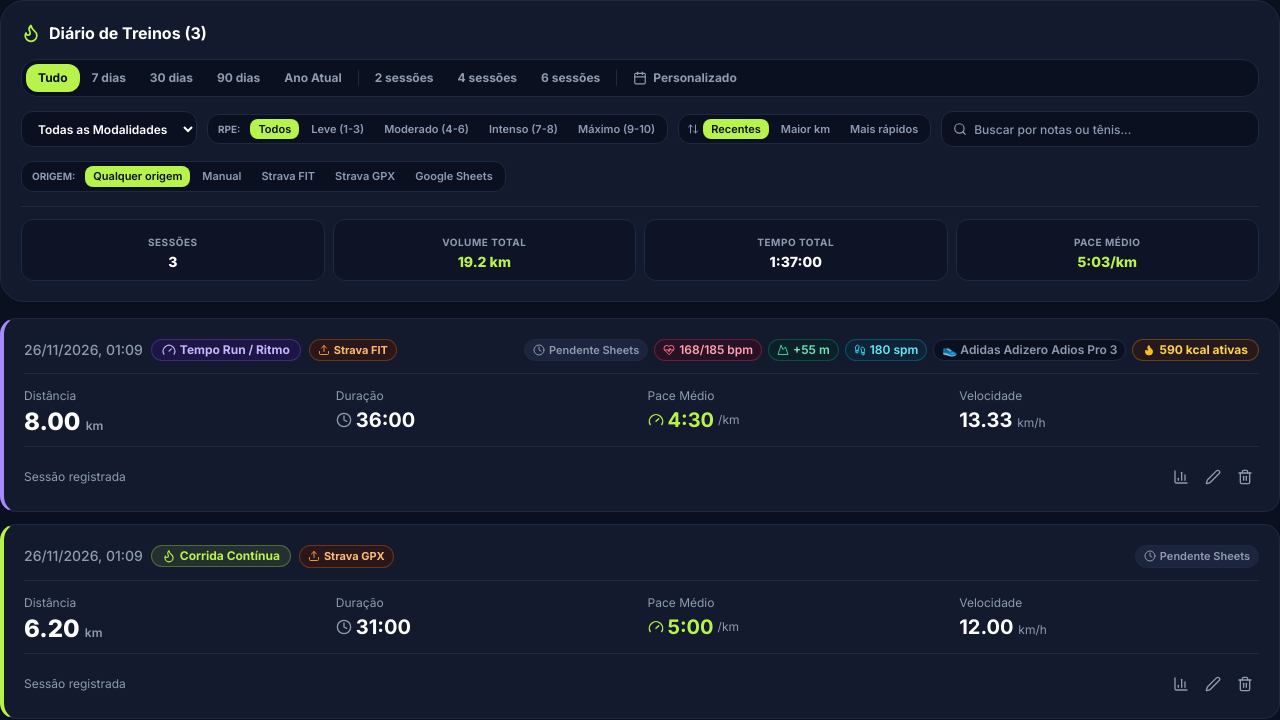
Test: Fase 7 — Upload Unificado (.FIT + .GPX), Painel Somente Leitura e Formulário Pós-Upload Inteligente › 5. TrainingCard e TrainingList: exibem badges de origem/telemetria apenas quando presentes e filtram por origem e tênis
This screenshot has width=1280, height=720.
Expected: the element with test id "badge-source" reads "Strava FIT", [334,342,388,356]
Expected: the element with test id "badge-hr" reads "168/185 bpm", [654,339,762,361]
Click the button with test id "filter-source-fit" at (288, 176), box [253,166,323,186]
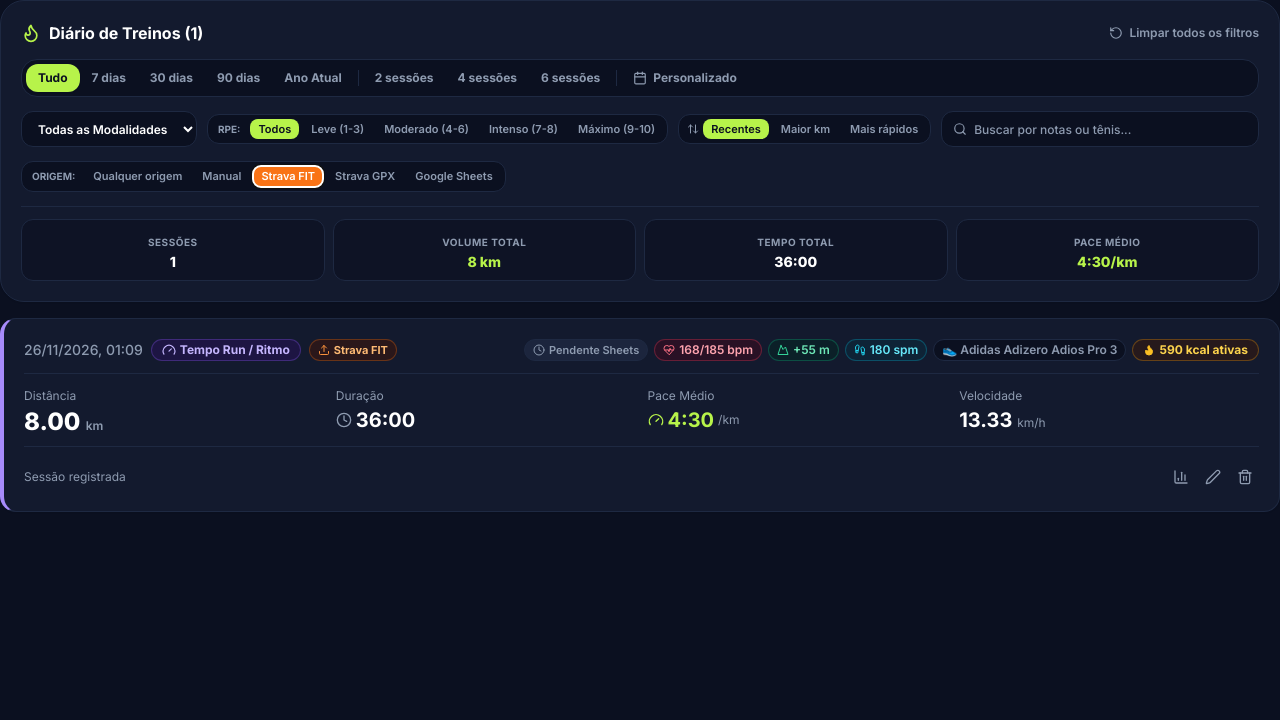
Expected: the element with test id "training-card-t-fit" is shown, [0,318,1279,512]
Expected: the element with test id "training-card-t-gpx" is gone
Filtra apenas por Strava GPX
Click the button with test id "filter-source-gpx" at (365, 176), box [327,166,403,186]
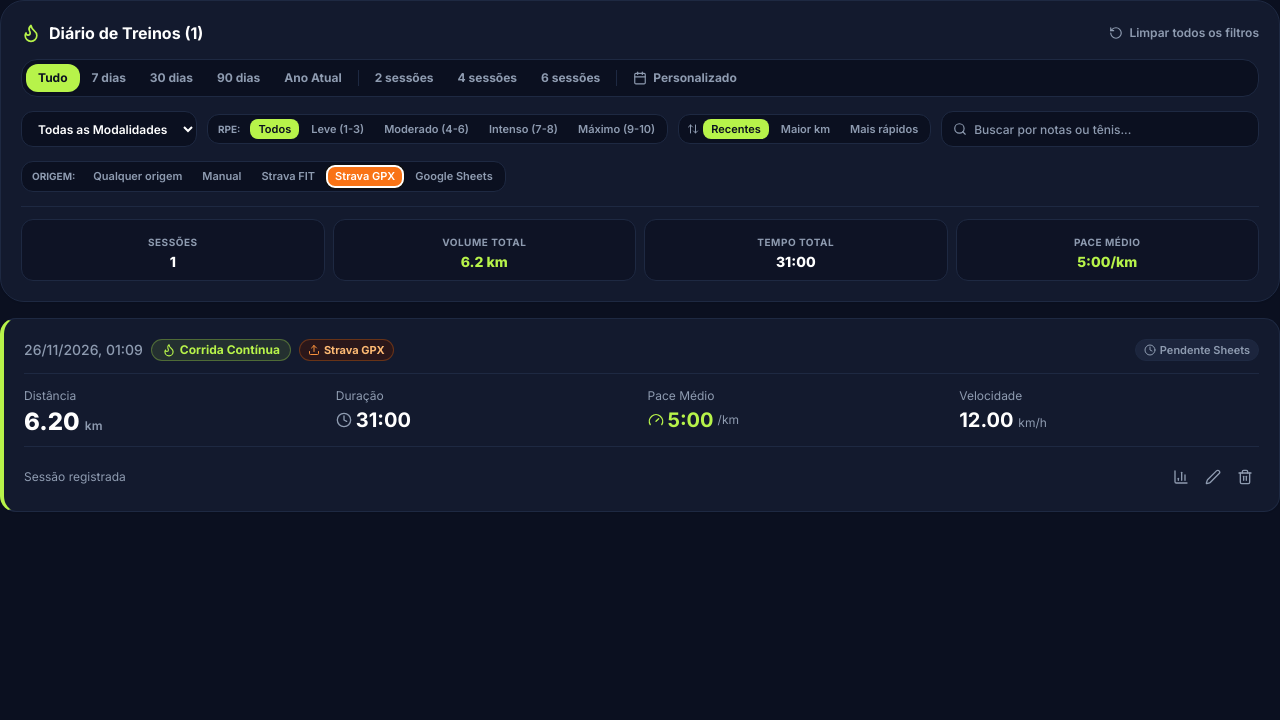
Expected: the element with test id "training-card-t-gpx" is shown, [0,318,1279,512]
Expected: the element with test id "training-card-t-fit" is gone
Volta para qualquer origem e busca pelo nome do tênis
Click the button with test id "filter-source-all" at (138, 176), box [85,166,190,186]
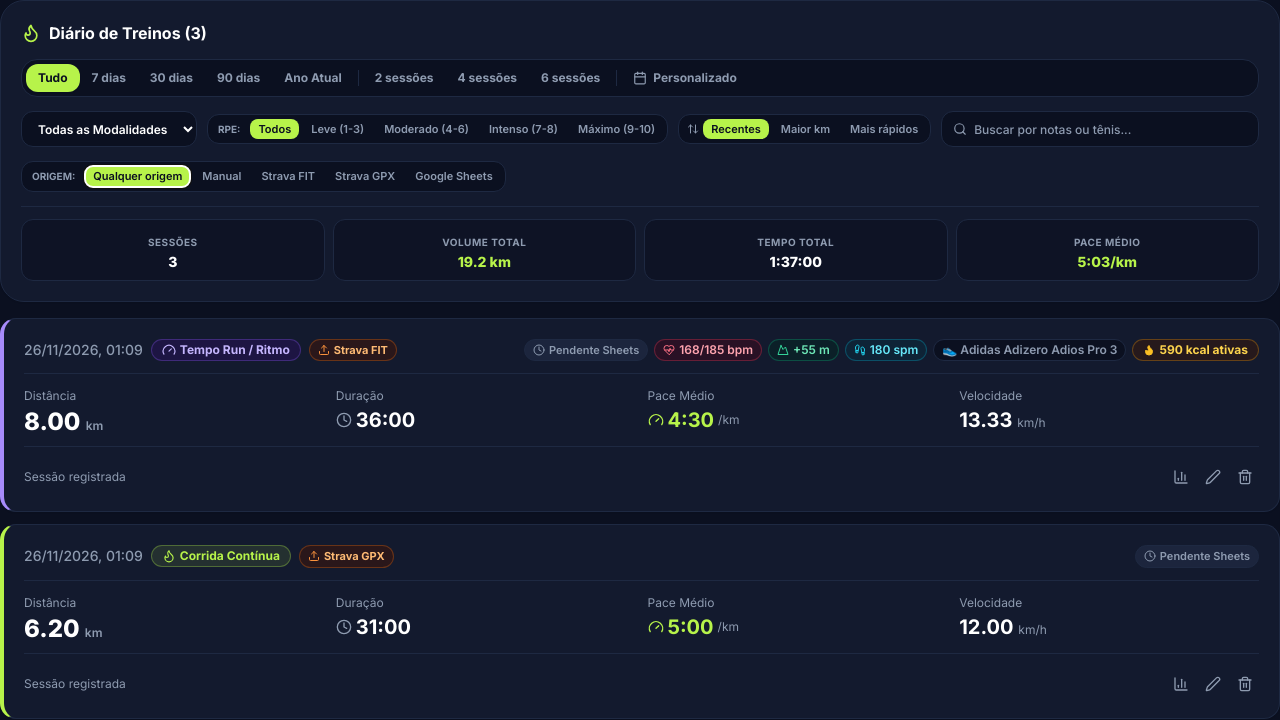
Type "Adizero" into the field with placeholder "Buscar por notas ou tênis..." at (1100, 129), box [941,111,1259,147]
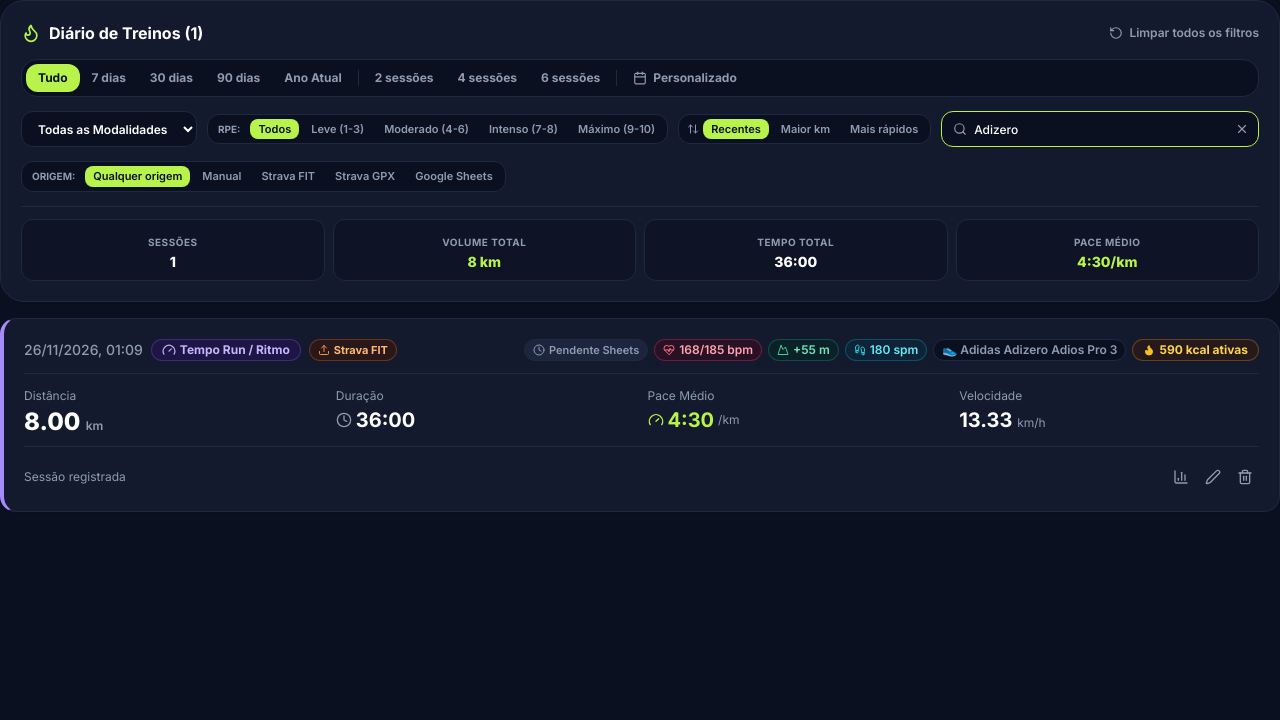
Expected: the element with test id "training-card-t-fit" is shown, [0,318,1279,512]
Expected: the element with test id "training-card-t-gpx" is gone
